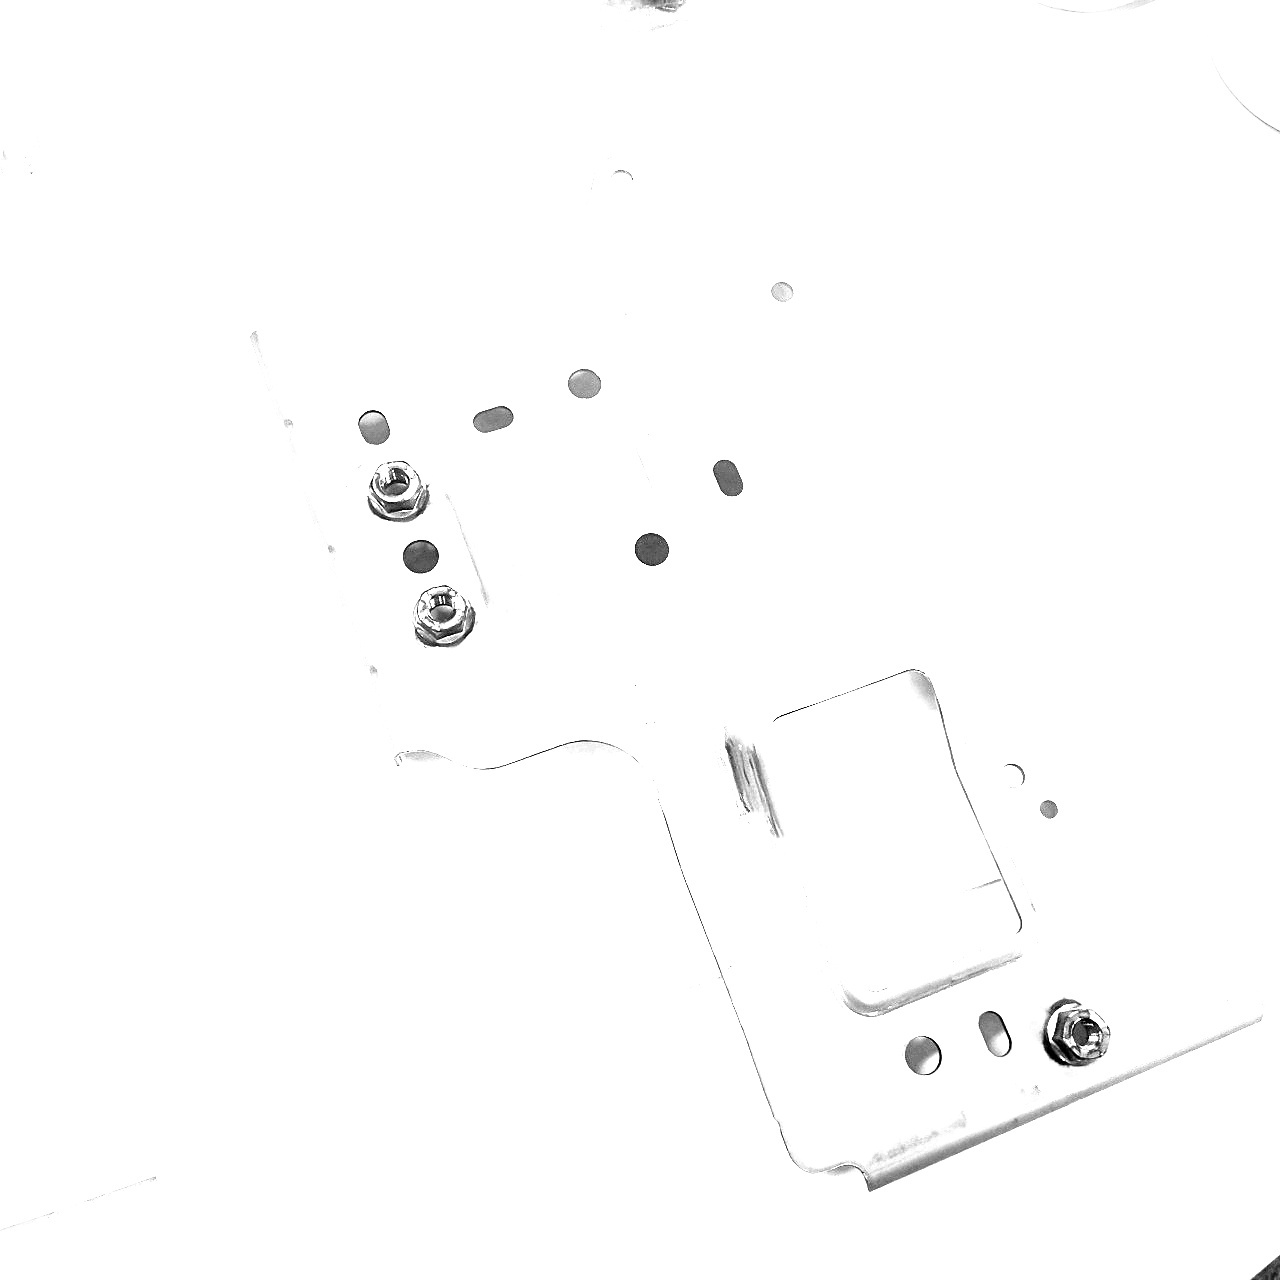dog: (1039, 994, 1112, 1076), (358, 454, 433, 526), (406, 583, 478, 654)
